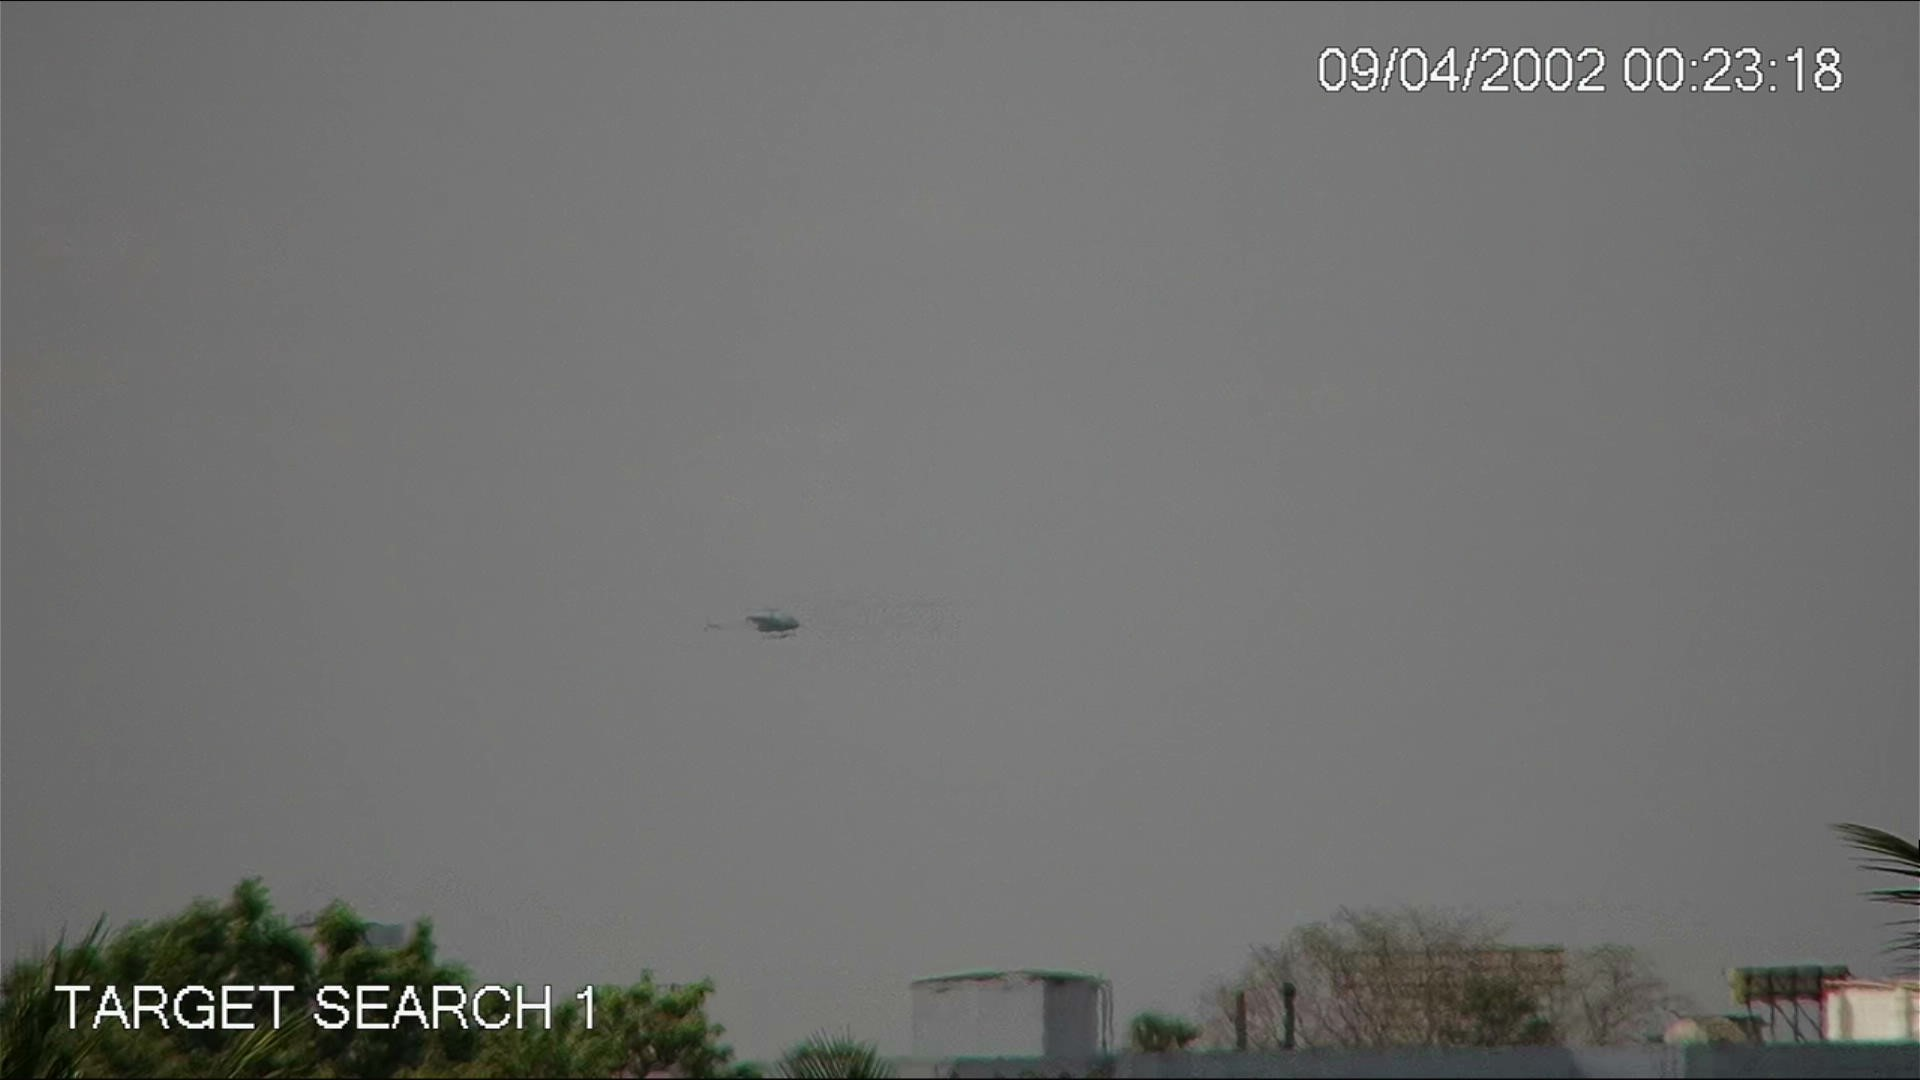SU_30: (702, 607, 812, 644)
